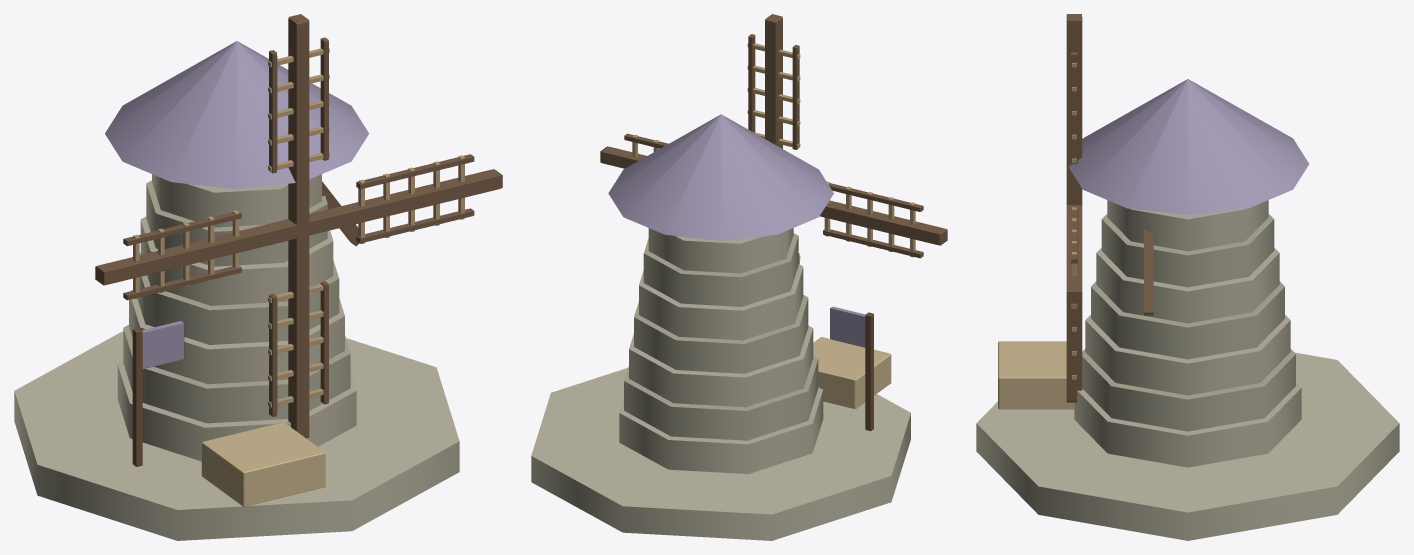
File: oldmill-2.glb
3 views of the same model, side by side, from view 1: azimuth 30°, elevation 25°; view 2: azimuth 150°, elevation 25°; view 3: azimuth 270°, elevation 25° (orthographic). The views are drawn at different scales.
Parts seen in each view (by area): view 1: oldmill-2-0, landmark-fan, landmark-restored, landmark-ruin; view 2: oldmill-2-0, landmark-restored, landmark-fan, landmark-ruin; view 3: oldmill-2-0, landmark-restored, landmark-fan, landmark-ruin.
Boxes of the visible parts, <box> form: oldmill-2-0: <box>14,174,459,540</box>; landmark-fan: <box>95,14,502,438</box>; landmark-restored: <box>105,41,369,466</box>; landmark-ruin: <box>201,181,359,506</box>; oldmill-2-0: <box>531,228,910,540</box>; landmark-restored: <box>608,114,873,431</box>; landmark-fan: <box>600,14,947,264</box>; landmark-ruin: <box>813,337,891,408</box>; oldmill-2-0: <box>976,200,1399,540</box>; landmark-restored: <box>1068,79,1308,215</box>; landmark-fan: <box>1066,14,1082,402</box>; landmark-ruin: <box>998,228,1153,409</box>.
Bounding box in the file's own units: 2.16 × 2.45 × 2.16.
